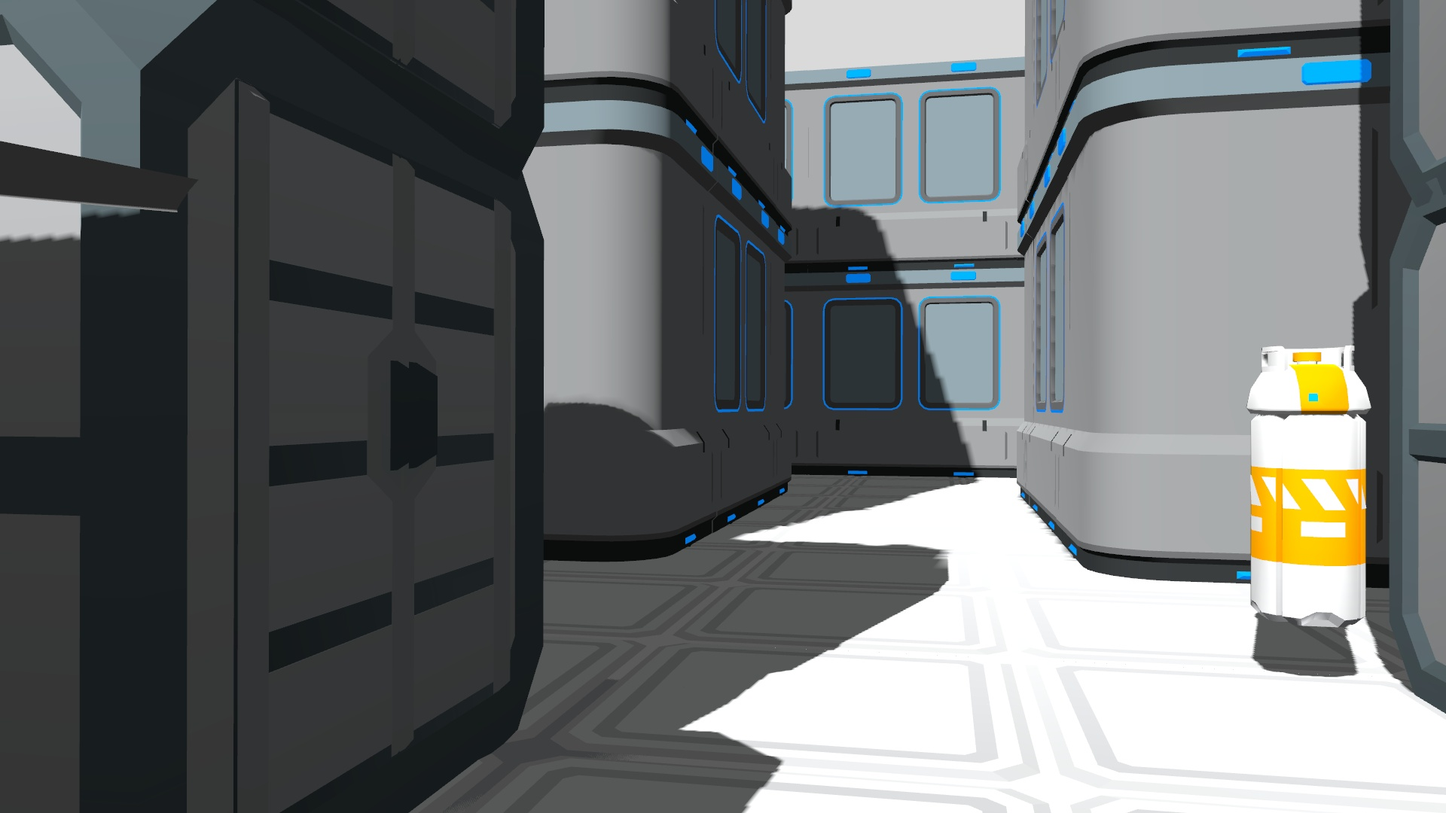yellow_barrel: (1247, 333, 1374, 638)
